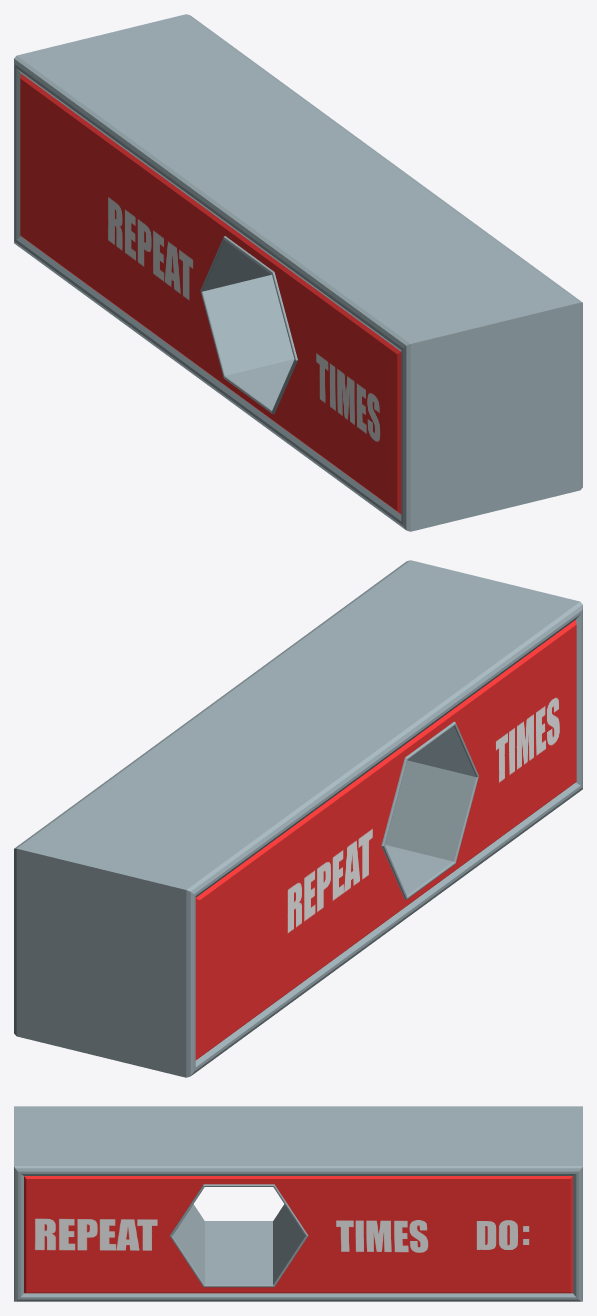
File: CONTROL_FOR_REPEAT.fbx
The picture shows the model from 3 angles, top to bottom: view 1: azimuth 30°, elevation 25°; view 2: azimuth 150°, elevation 25°; view 3: azimuth 270°, elevation 25°; orthographic projection. The views are drawn at different scales.
Visible parts, largest first — view 1: CONTROL_FOR_REPEAT; view 2: CONTROL_FOR_REPEAT; view 3: CONTROL_FOR_REPEAT.
Part boxes in pixels (left/top/right/bottom): CONTROL_FOR_REPEAT: left=14, top=14, right=582, bottom=531; CONTROL_FOR_REPEAT: left=14, top=560, right=582, bottom=1077; CONTROL_FOR_REPEAT: left=14, top=1106, right=582, bottom=1301.
Bounding box in the file's own units: 380 × 102 × 100.
